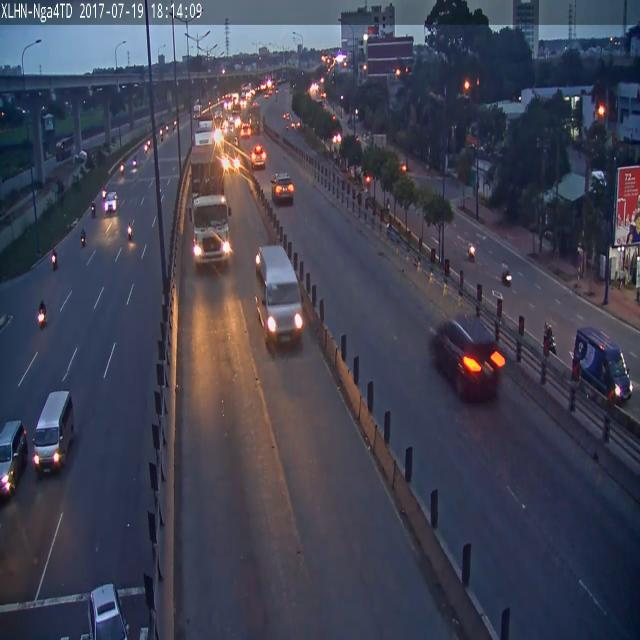car: (544, 324, 556, 354), (500, 261, 512, 286), (37, 301, 46, 327), (468, 244, 476, 261), (51, 248, 57, 268), (80, 228, 85, 247), (91, 200, 96, 218), (128, 224, 132, 241)
traffic-light: (431, 315, 505, 401), (255, 245, 302, 348), (572, 326, 633, 404), (32, 390, 74, 476), (0, 420, 28, 497), (90, 585, 127, 639), (271, 173, 294, 205), (250, 145, 266, 168), (103, 191, 118, 213)
truck: (190, 145, 231, 265)
